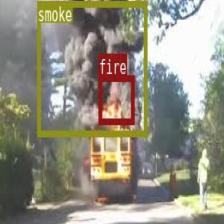fire: (98, 74, 134, 124)
smoke: (37, 0, 146, 134)
